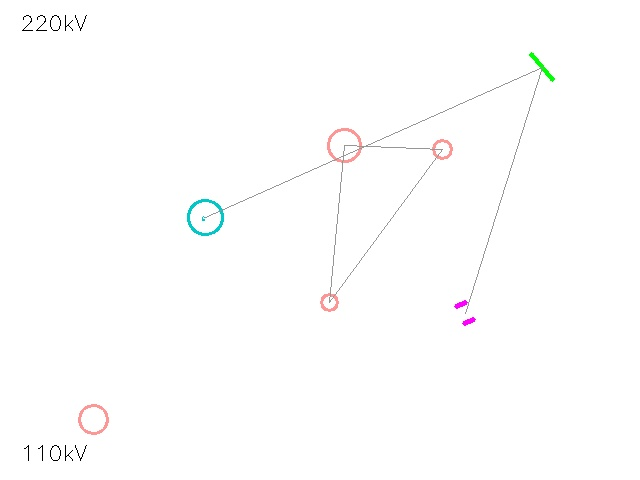busbar: (522, 47, 562, 87)
capacitor: (449, 297, 481, 329)
current_transformer: (65, 391, 121, 447)
fuse: (424, 131, 460, 167)
generator: (188, 200, 222, 234)
load_break_switch: (313, 286, 345, 318)
surge_arrester: (311, 112, 377, 178)
